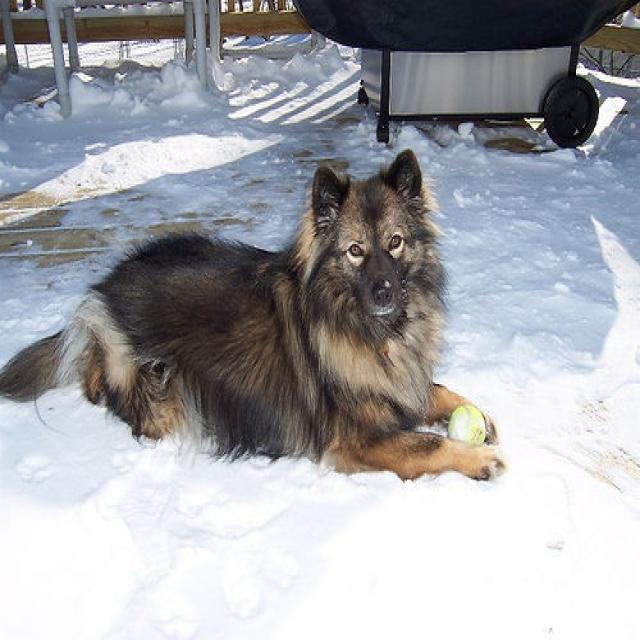dog-keeshond: (1, 135, 516, 492)
